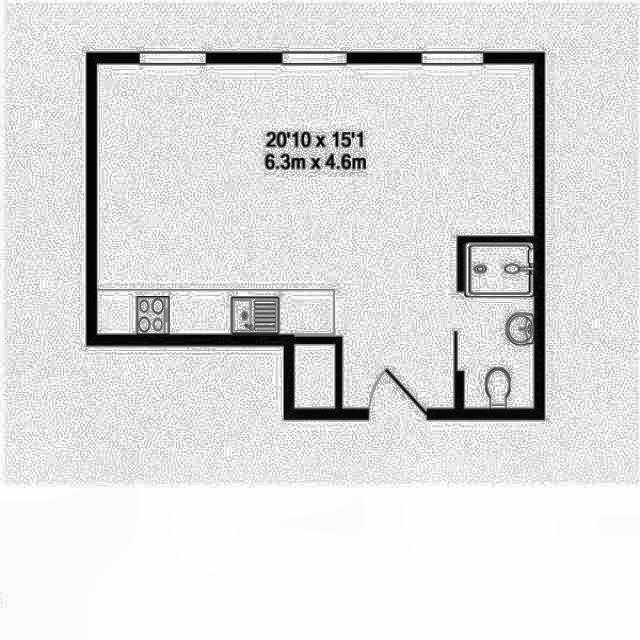room: (97, 63, 534, 409), (465, 243, 536, 408), (294, 343, 336, 408)
